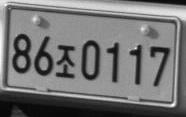0: (80, 39, 101, 81)
1: (103, 41, 124, 82), (127, 44, 148, 85)
6: (33, 35, 53, 76)
7: (149, 45, 171, 87)
8: (11, 32, 33, 74)
조: (54, 44, 76, 79)
